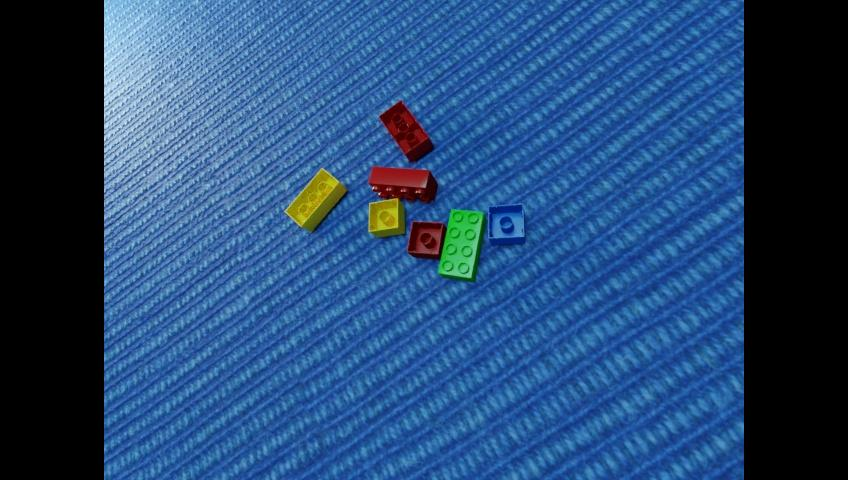2x2_blue: (488, 203, 524, 244)
2x2_red: (406, 220, 446, 259)
2x2_yellow: (368, 198, 403, 237)
4x2_green: (438, 208, 485, 282)
4x2_red: (378, 99, 433, 162), (368, 166, 437, 202)
4x2_yellow: (284, 168, 346, 232)
